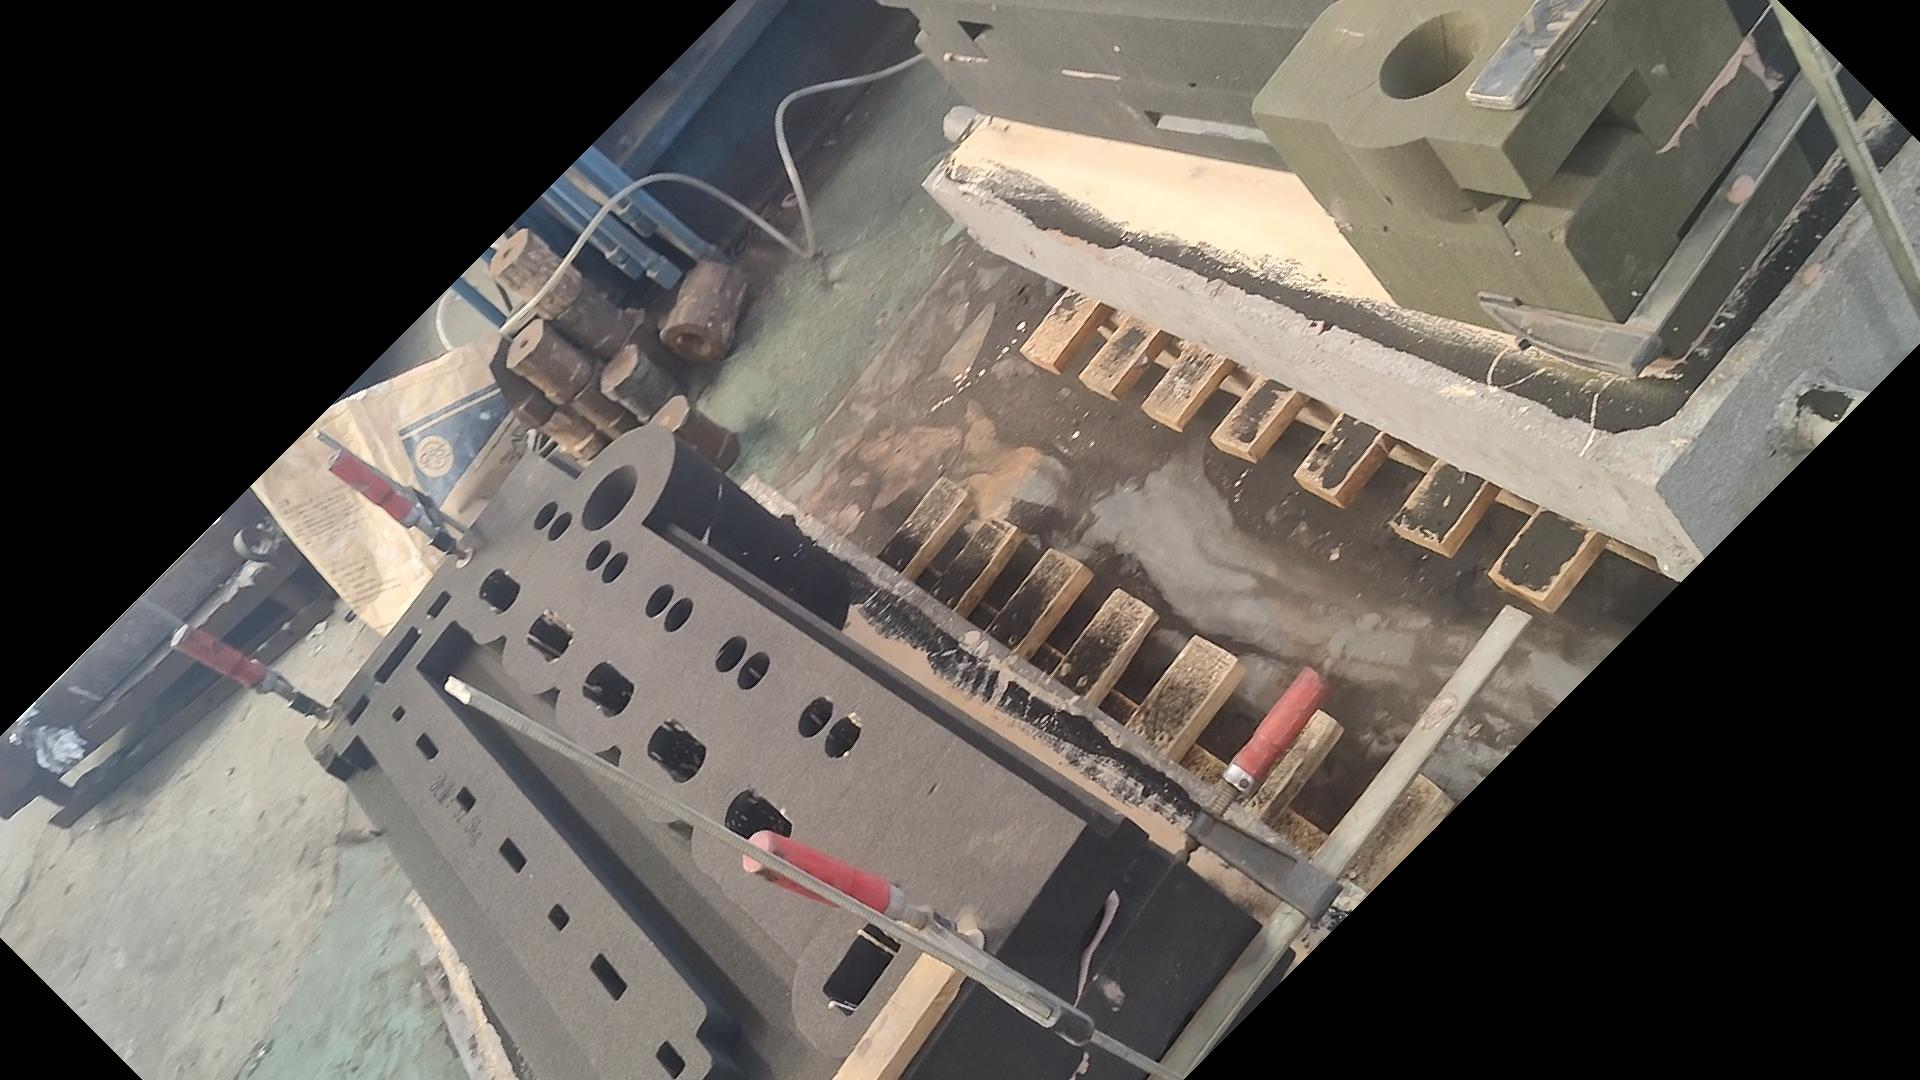pouring hole: (1378, 9, 1487, 99), (580, 463, 638, 531)
